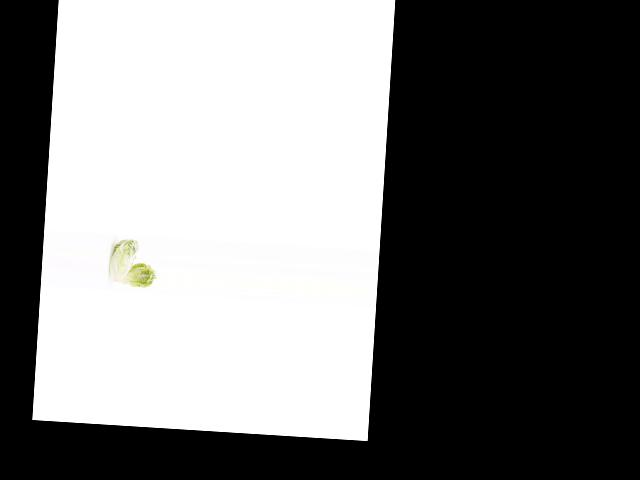lettuce: (106, 235, 142, 286)
